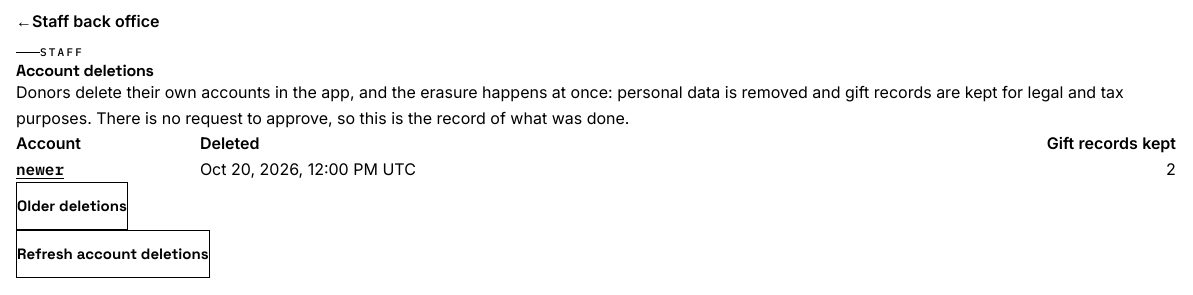
Test: pages with the server's cursors
Click the button "Older deletions" at (72, 206), box [16,182,128,230]
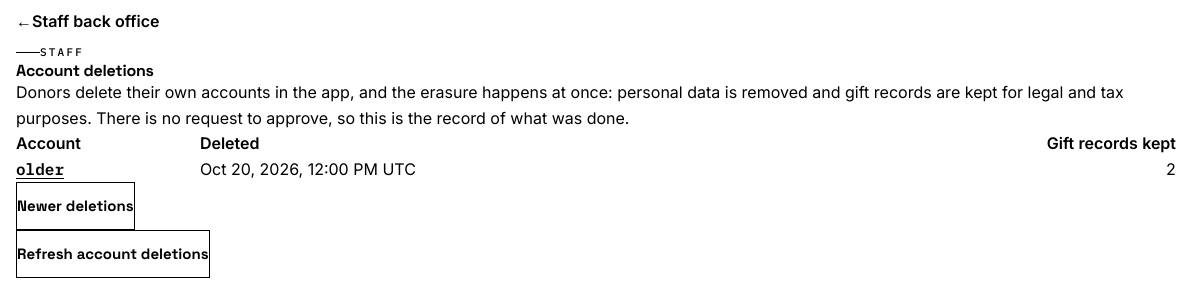
Result: the link "older" is shown at [16,159,64,179]
Click the button "Newer deletions" at (75, 206), box [16,182,135,230]
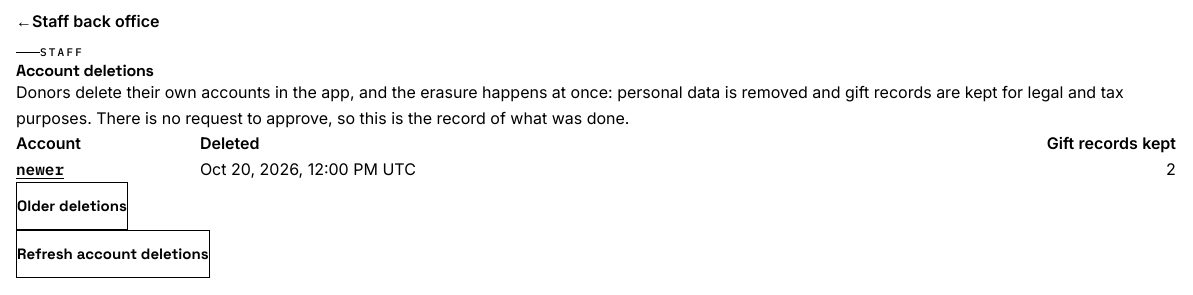
Result: the link "newer" is shown at [16,159,64,179]
